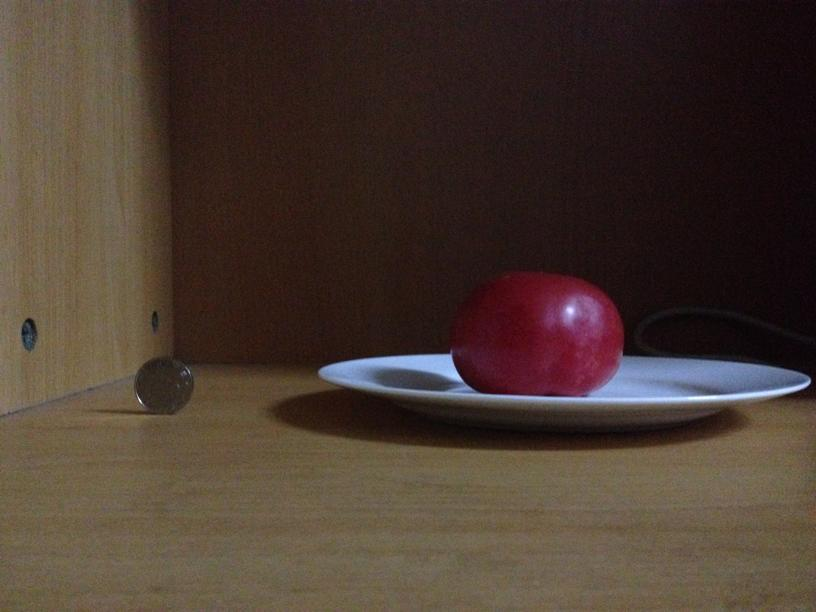coin: (128, 354, 196, 414)
tomato: (446, 264, 627, 394)
